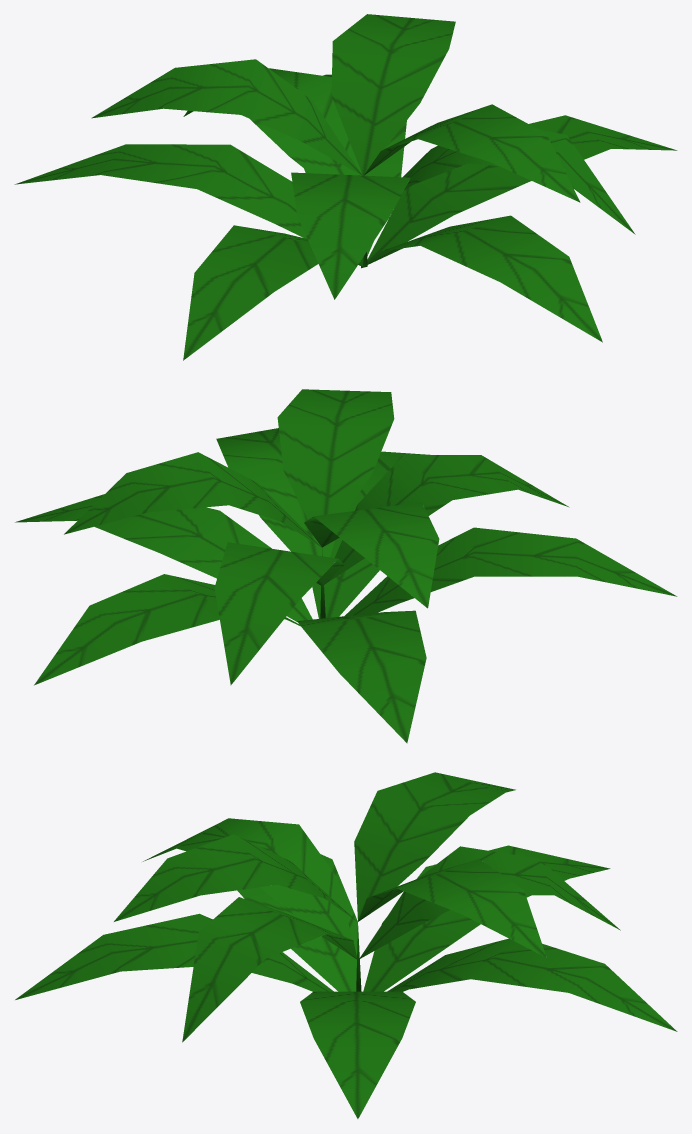
The model's file is Bush1.obj.
3 renders of one model, top to bottom at view 1: azimuth 30°, elevation 25°; view 2: azimuth 150°, elevation 25°; view 3: azimuth 270°, elevation 25°, orthographic. The views are drawn at different scales.
Parts seen in each view (by area): view 1: Plane_Plane.001; view 2: Plane_Plane.001; view 3: Plane_Plane.001.
Boxes of the visible parts, bbox=[...] form: Plane_Plane.001: bbox=[14, 14, 677, 360]; Plane_Plane.001: bbox=[15, 389, 677, 743]; Plane_Plane.001: bbox=[15, 772, 677, 1118].
Size of the model in its own units: 2.95 by 0.8501 by 3.
